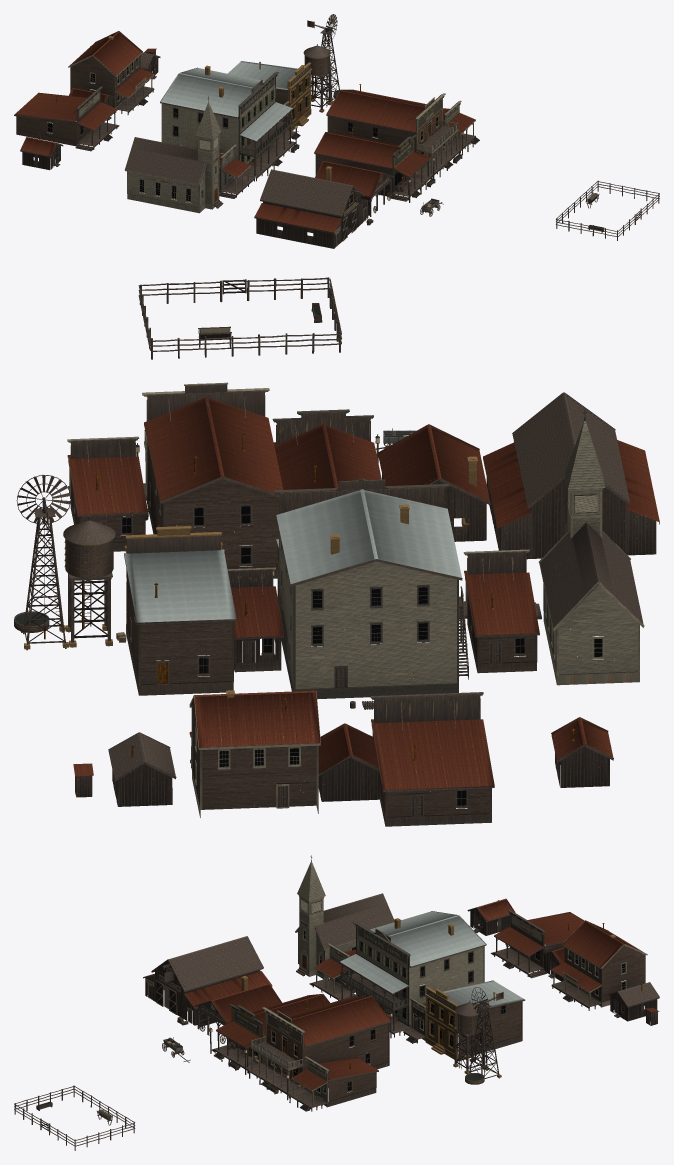
Rendered from town.glb.
The picture shows the model from 3 angles, top to bottom: view 1: azimuth 30°, elevation 25°; view 2: azimuth 150°, elevation 25°; view 3: azimuth 270°, elevation 25°; orthographic projection. The views are drawn at different scales.
Parts seen in each view (by area): view 1: bld_hotel, bld_church, bld_livery, bld_saloon, bld_trading_post, bld_boarding_house, bld_store, bld_bank, bld_blacksmith, corral, bld_barber, bld_watertank (+5 smaller); view 2: bld_hotel, bld_saloon, bld_livery, bld_bank, bld_church, bld_boarding_house, bld_trading_post, bld_barber, bld_store, bld_blacksmith, bld_sheriff, bld_assay (+7 smaller); view 3: bld_hotel, bld_saloon, bld_livery, bld_boarding_house, bld_church, bld_bank, bld_trading_post, bld_sheriff, bld_store, bld_blacksmith, corral, bld_watertank (+7 smaller).
Boxes of the visible parts, x1=… form: bld_hotel: x1=160, y1=65, x2=295, y2=181; bld_church: x1=124, y1=96, x2=223, y2=213; bld_livery: x1=254, y1=169, x2=370, y2=248; bld_saloon: x1=326, y1=84, x2=460, y2=178; bld_trading_post: x1=14, y1=86, x2=119, y2=151; bld_boarding_house: x1=68, y1=31, x2=154, y2=114; bld_store: x1=314, y1=128, x2=432, y2=201; bld_bank: x1=228, y1=61, x2=312, y2=130; bld_blacksmith: x1=315, y1=161, x2=394, y2=216; corral: x1=556, y1=180, x2=659, y2=240; bld_barber: x1=196, y1=144, x2=255, y2=198; bld_watertank: x1=303, y1=44, x2=332, y2=112; bld_hotel: x1=274, y1=478, x2=468, y2=699; bld_saloon: x1=142, y1=382, x2=283, y2=578; bld_livery: x1=483, y1=392, x2=659, y2=559; bld_bank: x1=124, y1=526, x2=236, y2=695; bld_church: x1=538, y1=409, x2=644, y2=685; bld_boarding_house: x1=189, y1=690, x2=320, y2=817; bld_trading_post: x1=370, y1=692, x2=494, y2=826; bld_barber: x1=459, y1=549, x2=541, y2=673; bld_store: x1=272, y1=409, x2=381, y2=489; bld_blacksmith: x1=378, y1=424, x2=490, y2=541; bld_sheriff: x1=67, y1=436, x2=148, y2=551; bld_assay: x1=227, y1=567, x2=283, y2=672; bld_hotel: x1=338, y1=911, x2=486, y2=1037; bld_saloon: x1=248, y1=996, x2=391, y2=1098; bld_livery: x1=143, y1=936, x2=272, y2=1025; bld_boarding_house: x1=551, y1=920, x2=647, y2=1010; bld_church: x1=295, y1=855, x2=394, y2=979; bld_bank: x1=424, y1=980, x2=525, y2=1059; bld_trading_post: x1=490, y1=910, x2=584, y2=978; bld_sheriff: x1=289, y1=1056, x2=378, y2=1111; bld_store: x1=211, y1=994, x2=329, y2=1073; bld_blacksmith: x1=194, y1=975, x2=282, y2=1044; corral: x1=14, y1=1085, x2=135, y2=1150; bld_watertank: x1=453, y1=1000, x2=486, y2=1074.
Size of the model in its own units: 83.77 by 19.86 by 98.68.
Materials: 20 (17 with a texture image).
